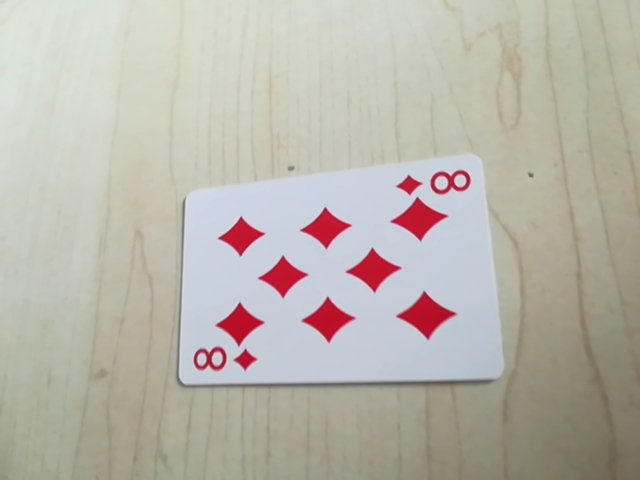fk 8: (395, 163, 475, 201), (191, 344, 260, 382)
